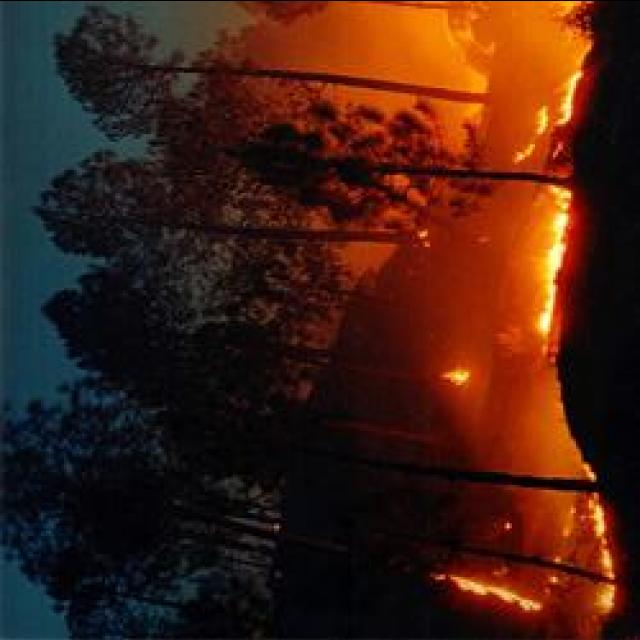fire: (448, 572, 538, 618), (538, 206, 566, 346), (538, 188, 572, 283), (599, 548, 620, 612), (563, 75, 579, 124), (448, 366, 472, 386)
smoke: (243, 9, 456, 82), (498, 356, 562, 482)
